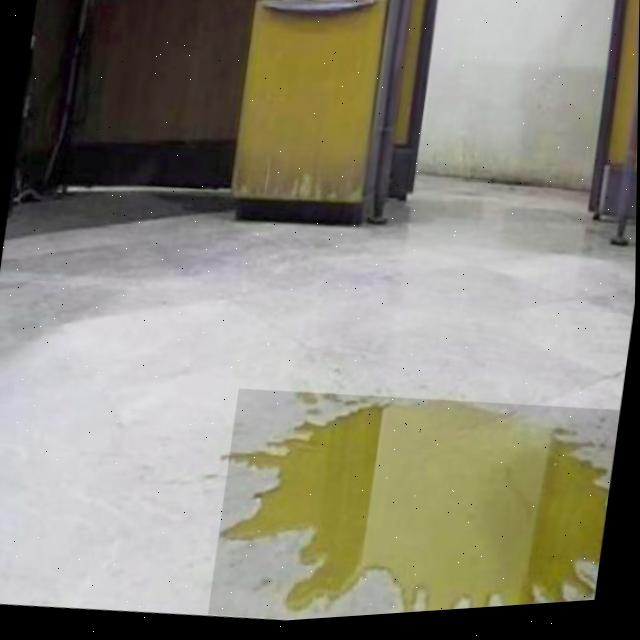spillage: (223, 406, 609, 618)
